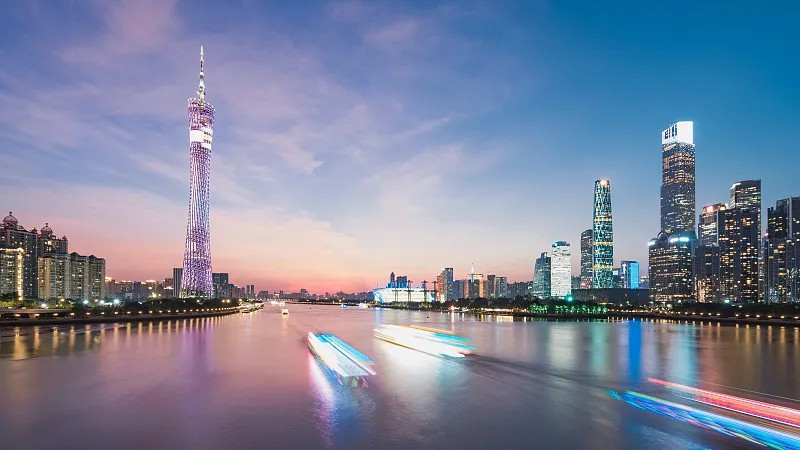Canton: (176, 43, 220, 301)
